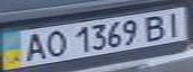1: (69, 24, 93, 54)
3: (90, 21, 109, 52)
6: (106, 18, 127, 48)
9: (121, 17, 145, 46)
A: (18, 30, 51, 62)
B: (139, 12, 172, 42)
I: (160, 9, 190, 38)
O: (39, 28, 69, 57)
